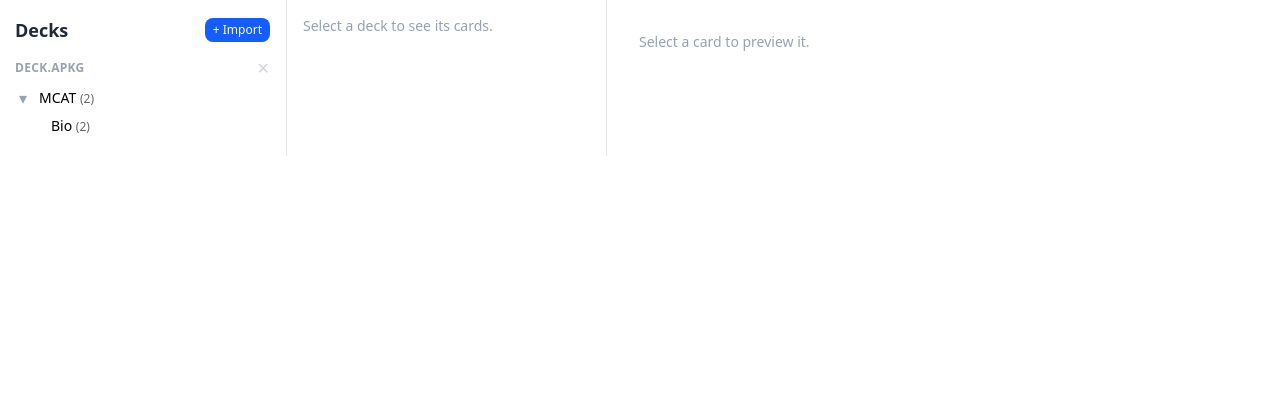
Scenario: Flashcards page › shows a Study button with counts for a selected deck, enters the review session, and Exit returns to browse
Step 1. Click the button "Bio (2)" → (156, 126), box [43, 112, 270, 140]
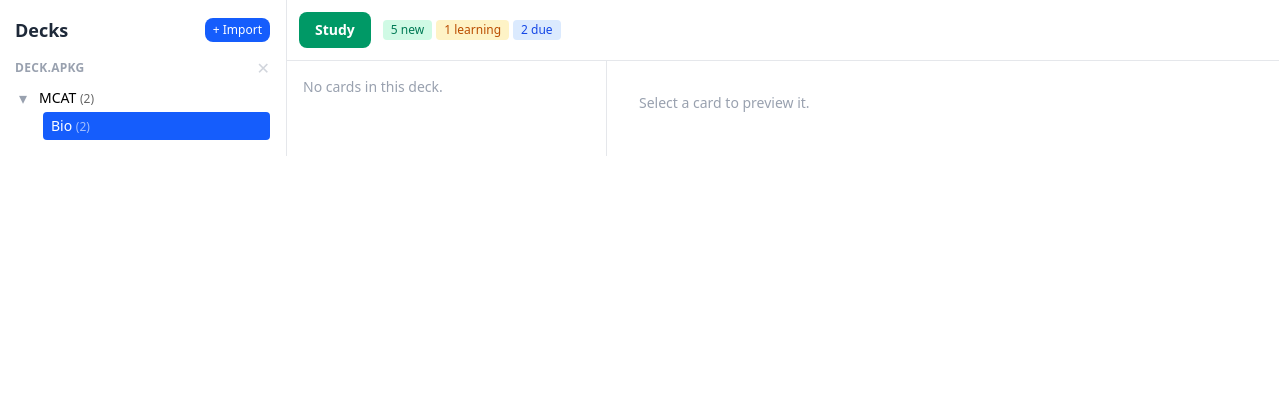
Check: the button "Study" is enabled
Check: the text "5 new" is shown, box [383, 20, 432, 40]
Step 2. Click the button "Study" → (335, 30), box [299, 12, 371, 48]
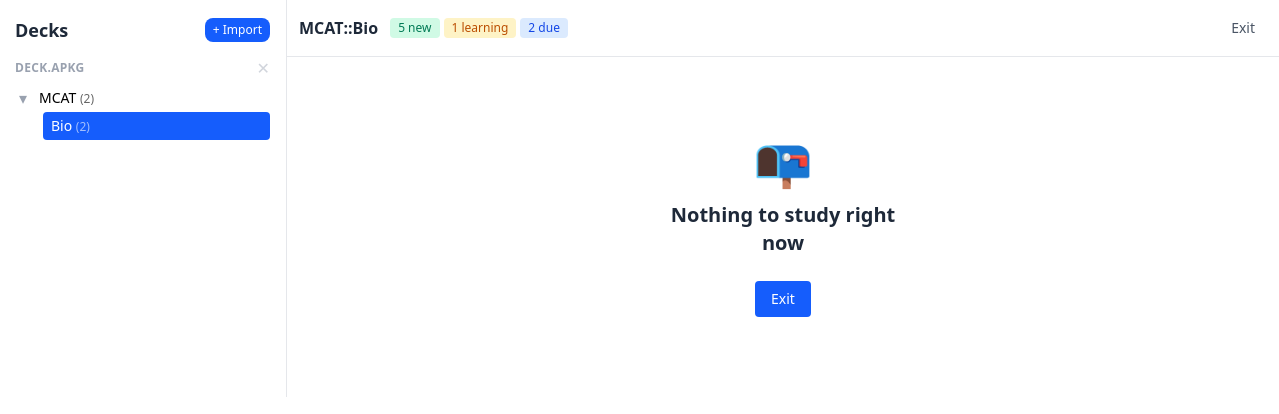
Check: the heading "Nothing to study right now" is shown, box [655, 201, 911, 257]
Check: the text "Select a card to preview it." is gone
Step 3. Click the button "Exit" in the row of "due" → (1243, 28), box [1219, 12, 1267, 44]
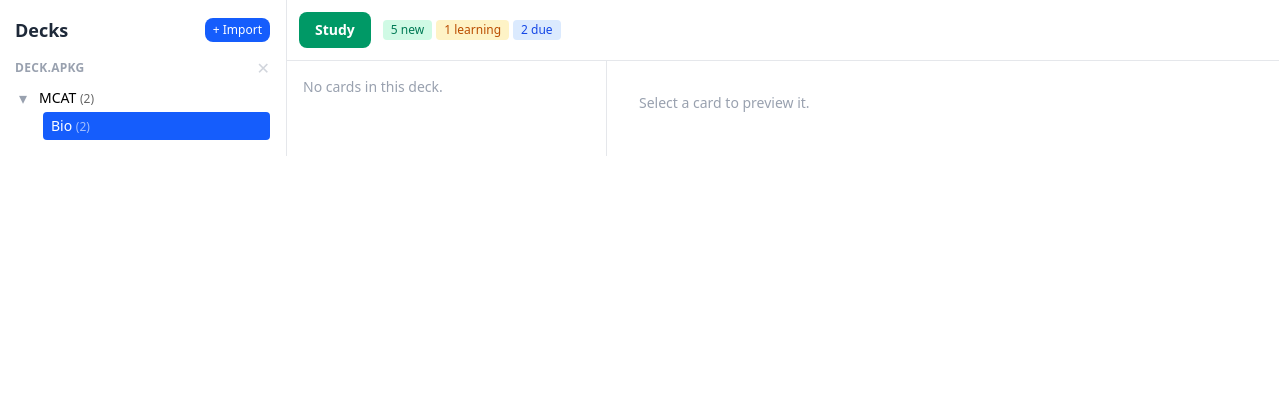
Check: the text "Select a card to preview it." is shown, box [639, 93, 810, 112]
